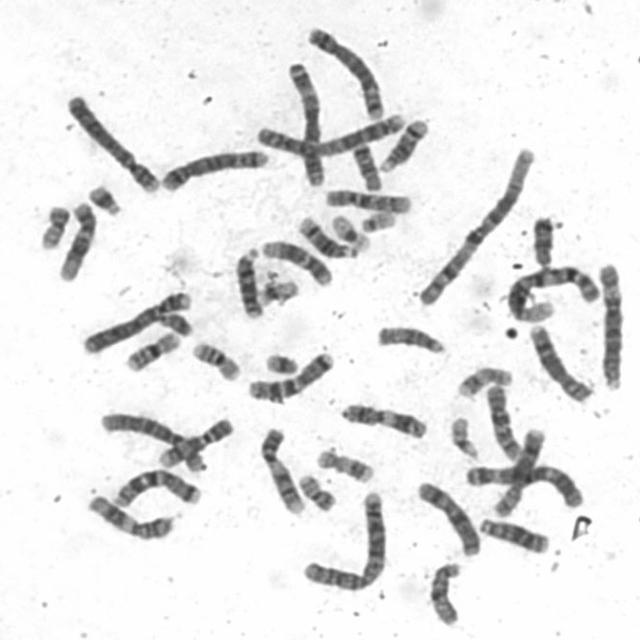A1: (412, 140, 539, 307), (500, 257, 603, 324)
A2: (294, 484, 389, 593), (250, 104, 408, 158)
A3: (457, 456, 587, 510), (281, 54, 328, 188)
B4: (59, 86, 162, 195), (75, 284, 194, 356)
B5: (301, 19, 387, 120), (155, 142, 271, 194)
C10: (479, 378, 525, 462), (318, 182, 414, 215)
C11: (80, 486, 177, 542), (334, 396, 431, 440)
C12: (255, 232, 335, 287), (51, 194, 99, 282)
C6: (93, 404, 209, 475), (592, 255, 628, 392)
C7: (240, 344, 336, 402), (106, 462, 204, 508)
C8: (522, 317, 596, 404), (487, 422, 550, 519)
C9: (253, 420, 307, 516), (151, 410, 236, 470)
D13: (472, 510, 552, 556), (228, 240, 266, 320)
D14: (373, 111, 432, 174), (292, 209, 362, 260)
D15: (422, 556, 465, 628), (370, 318, 448, 356)
E16: (118, 324, 183, 374), (186, 334, 243, 382)
E17: (310, 441, 377, 485), (450, 359, 515, 399)
E18: (345, 136, 385, 192), (525, 208, 558, 269)
F19: (325, 208, 373, 253), (251, 273, 302, 307)
F20: (32, 197, 72, 251), (291, 467, 339, 512)
G21: (81, 177, 124, 217), (258, 346, 301, 376)
G22: (442, 409, 482, 461), (355, 204, 398, 234)
X: (410, 474, 483, 558)
Y: (152, 305, 194, 338)
